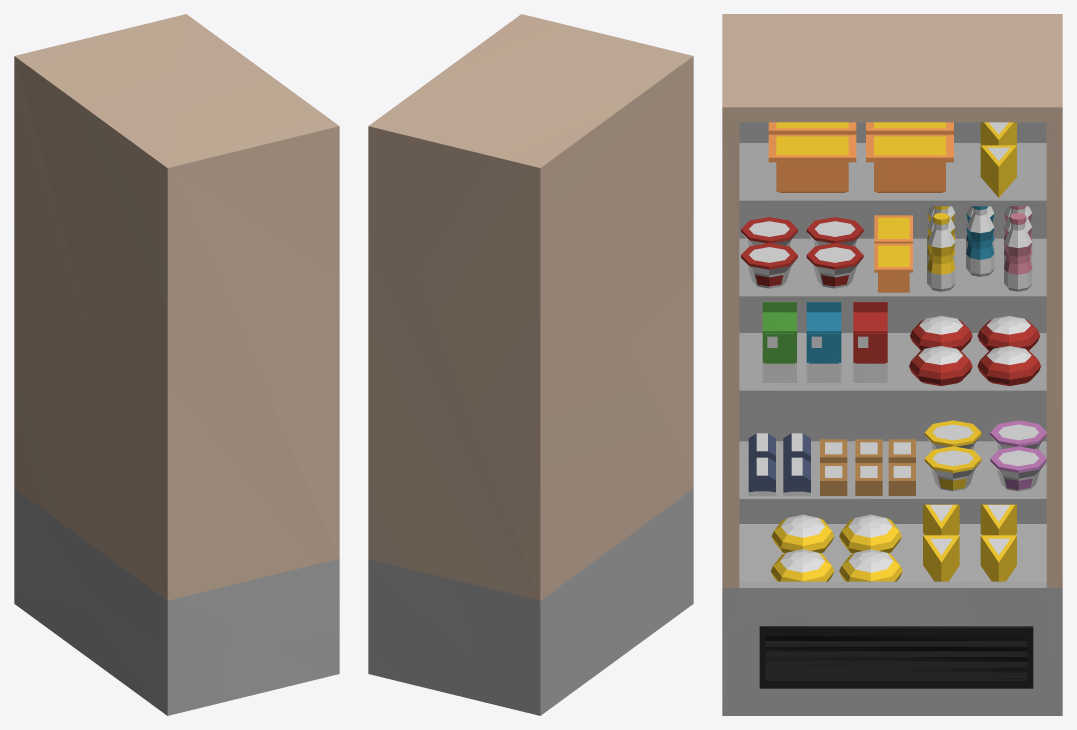
Rendered from SM_shopFreezer_02.glb.
The picture shows the model from 3 angles, left to right: view 1: azimuth 30°, elevation 25°; view 2: azimuth 150°, elevation 25°; view 3: azimuth 270°, elevation 25°; orthographic projection. The views are drawn at different scales.
Parts seen in each view (by area): view 1: SM_shopFreezer_02; view 2: SM_shopFreezer_02; view 3: SM_shopFreezer_02.
Part boxes in pixels (box(x1,y1,x2,y2)): SM_shopFreezer_02: box(14, 14, 339, 715); SM_shopFreezer_02: box(368, 14, 693, 715); SM_shopFreezer_02: box(722, 14, 1062, 715).
Size of the model in its own units: 0.6614 by 1.97 by 0.9968.
Materials: 1 (1 with a texture image).
